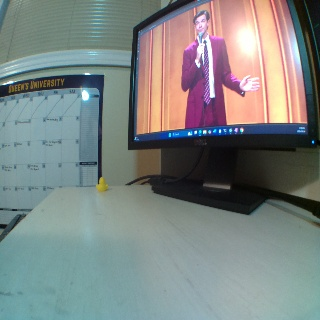duck_regular: (95, 176, 109, 192)
